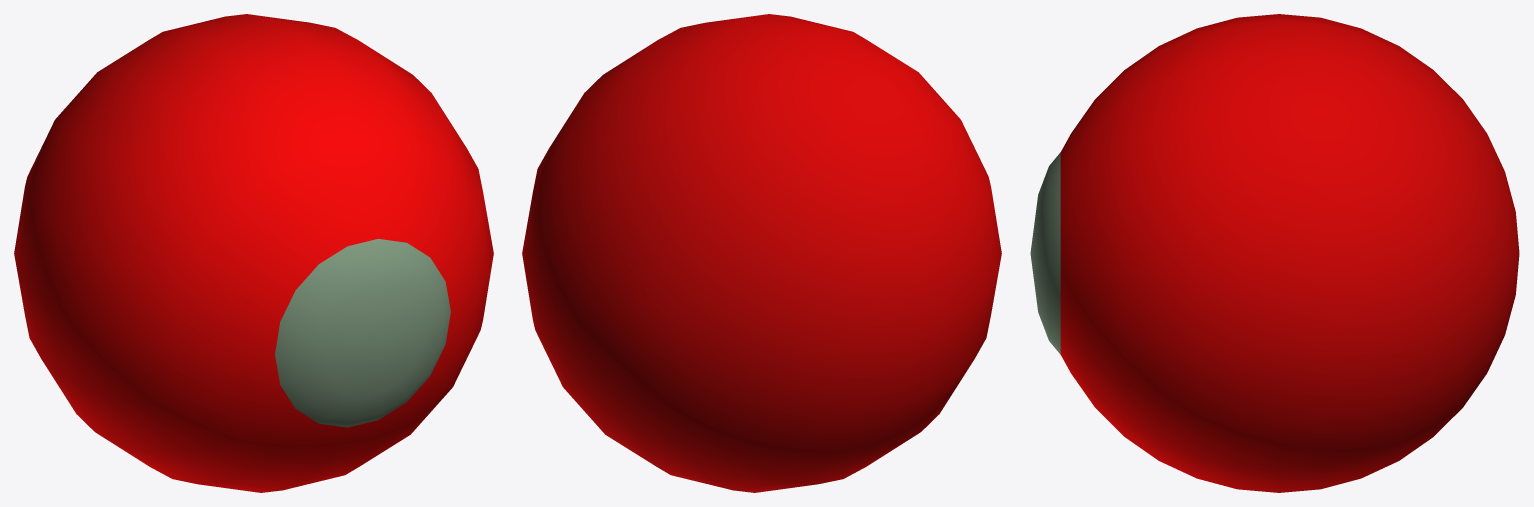
File: AnimalParts_EyeBall.fbx
The picture shows the model from 3 angles, left to right: view 1: azimuth 30°, elevation 25°; view 2: azimuth 150°, elevation 25°; view 3: azimuth 270°, elevation 25°; orthographic projection.
Visible parts, largest first — view 1: base, transp; view 2: base; view 3: base, transp.
Part boxes in pixels (box(x1,y1,x2,y2)): base: box(14, 14, 493, 492); transp: box(275, 239, 450, 427); base: box(522, 14, 1001, 492); base: box(1060, 14, 1519, 492); transp: box(1030, 152, 1060, 354).
Size of the model in its own units: 65.48 by 64.49 by 66.6.
